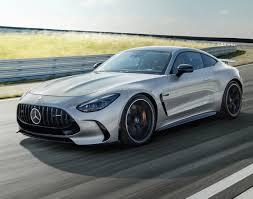mercedes: (28, 108, 43, 124)
